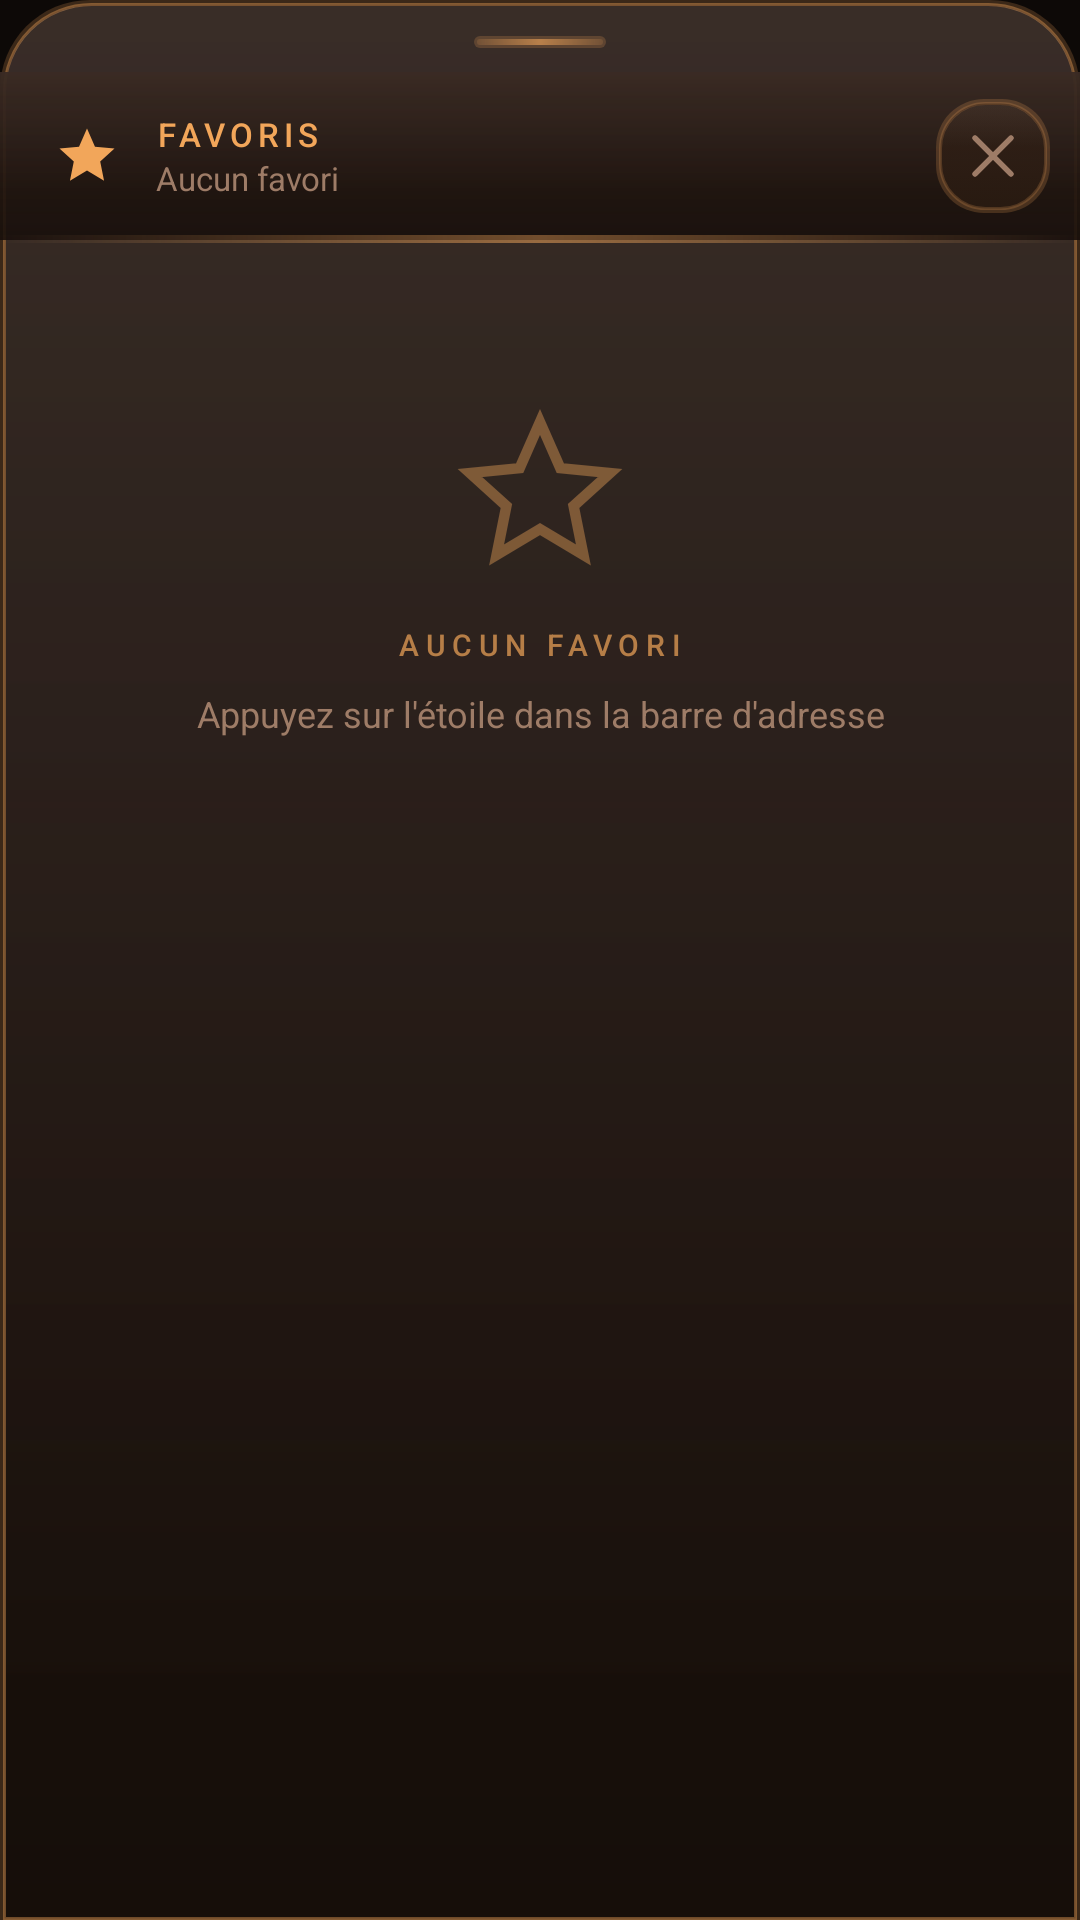

Point at icon controls on the screen. Image size 1080px x 1920px, points as [x,y].
Fermer: [993,156]
star: [87,155], [540,487]
